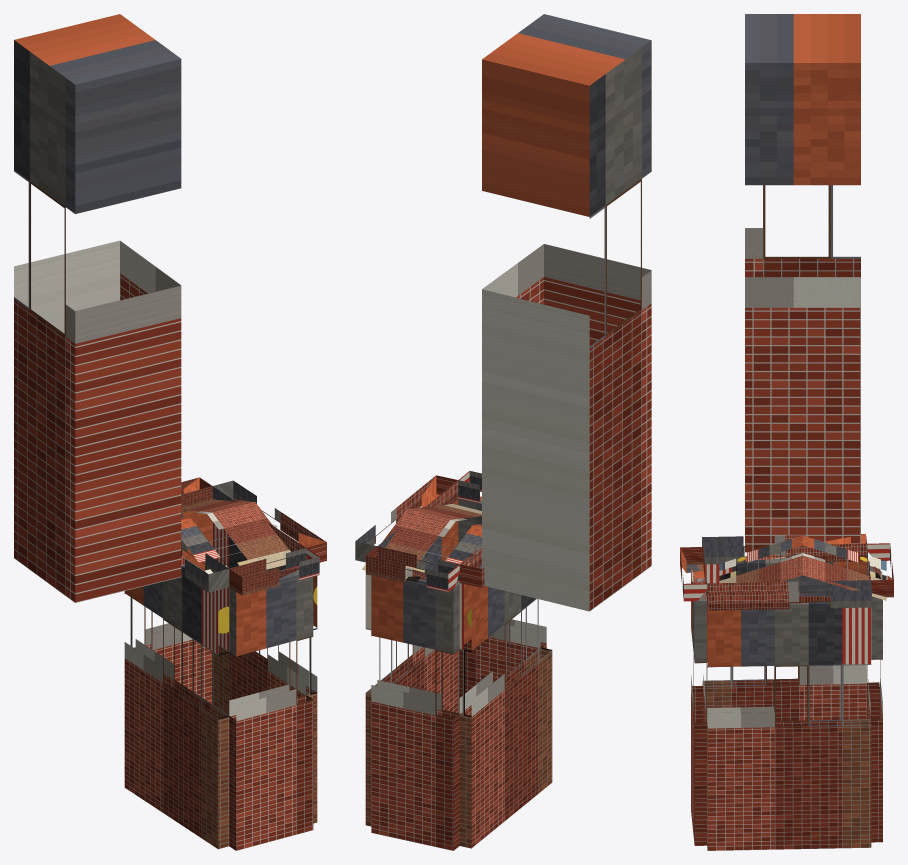
The picture shows the model from 3 angles, left to right: view 1: azimuth 30°, elevation 25°; view 2: azimuth 150°, elevation 25°; view 3: azimuth 270°, elevation 25°; orthographic projection. The views are drawn at different scales.
Visible parts, largest first — view 1: 1107169163__chimney_0_xb, 1107169163__wall_3_xb, 1107169163__wall_2_xb, 1107169163__wall_1_xb, 1107169163_roof_-1_xb, 1107169163__wall_0_xb, 1107169163__cornice_2, 1107169163__cornice_1, 1107169163__cornice_3, 1107169163__cornice_0, 1107169163_roof_1_xb; view 2: 1107169163__chimney_0_xb, 1107169163__wall_0_xb, 1107169163__wall_3_xb, 1107169163__wall_1_xb, 1107169163__wall_2_xb, 1107169163_roof_1_xb, 1107169163__cornice_0, 1107169163__cornice_1, 1107169163_roof_-1_xb, 1107169163__cornice_3, 1107169163__cornice_2; view 3: 1107169163__chimney_0_xb, 1107169163__wall_1_xb, 1107169163__wall_3_xb, 1107169163__cornice_1, 1107169163__wall_2_xb, 1107169163__wall_0_xb, 1107169163__cornice_3, 1107169163_roof_-1_xb, 1107169163_roof_1_xb, 1107169163__cornice_2, 1107169163__cornice_0.
Part boxes in pixels (<box>): 1107169163__chimney_0_xb: <box>14,14,181,602</box>; 1107169163__wall_3_xb: <box>124,556,229,849</box>; 1107169163__wall_2_xb: <box>229,570,313,850</box>; 1107169163__wall_1_xb: <box>212,522,317,823</box>; 1107169163_roof_-1_xb: <box>181,502,290,574</box>; 1107169163__wall_0_xb: <box>134,510,212,703</box>; 1107169163__cornice_2: <box>229,548,319,595</box>; 1107169163__cornice_1: <box>212,480,326,562</box>; 1107169163__cornice_3: <box>181,539,229,592</box>; 1107169163__cornice_0: <box>181,477,212,512</box>; 1107169163_roof_1_xb: <box>181,499,254,519</box>; 1107169163__chimney_0_xb: <box>482,14,651,611</box>; 1107169163__wall_0_xb: <box>371,575,459,850</box>; 1107169163__wall_3_xb: <box>459,565,552,848</box>; 1107169163__wall_1_xb: <box>365,499,458,826</box>; 1107169163__wall_2_xb: <box>458,499,546,713</box>; 1107169163_roof_1_xb: <box>362,509,481,582</box>; 1107169163__cornice_0: <box>366,546,459,592</box>; 1107169163__cornice_1: <box>355,475,458,562</box>; 1107169163_roof_-1_xb: <box>407,504,481,527</box>; 1107169163__cornice_3: <box>459,547,484,587</box>; 1107169163__cornice_2: <box>458,471,481,503</box>; 1107169163__chimney_0_xb: <box>745,14,860,552</box>; 1107169163__wall_1_xb: <box>707,601,871,850</box>; 1107169163__wall_3_xb: <box>702,558,866,720</box>; 1107169163__cornice_1: <box>707,580,871,610</box>; 1107169163__wall_2_xb: <box>691,564,706,845</box>; 1107169163__wall_0_xb: <box>867,561,882,842</box>; 1107169163__cornice_3: <box>702,534,866,564</box>; 1107169163_roof_-1_xb: <box>719,535,802,592</box>; 1107169163_roof_1_xb: <box>803,535,886,600</box>; 1107169163__cornice_2: <box>680,547,706,601</box>; 1107169163__cornice_0: <box>867,543,893,597</box>.
Bounding box in the file's own units: 0.328 × 1.05 × 0.2771.
Materials: 1 (1 with a texture image).
